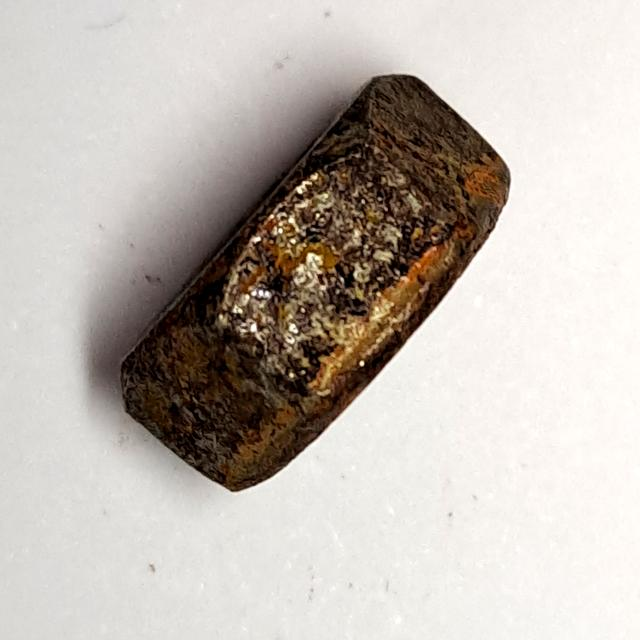Side_Rust: (109, 62, 525, 505)
